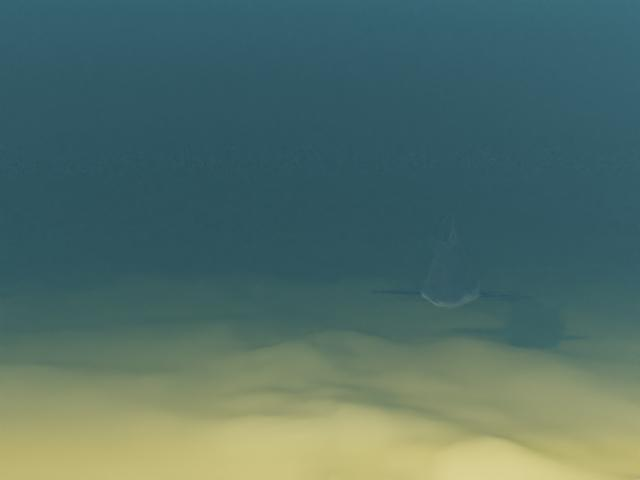Carribean Shark.001: (370, 199, 535, 308)
